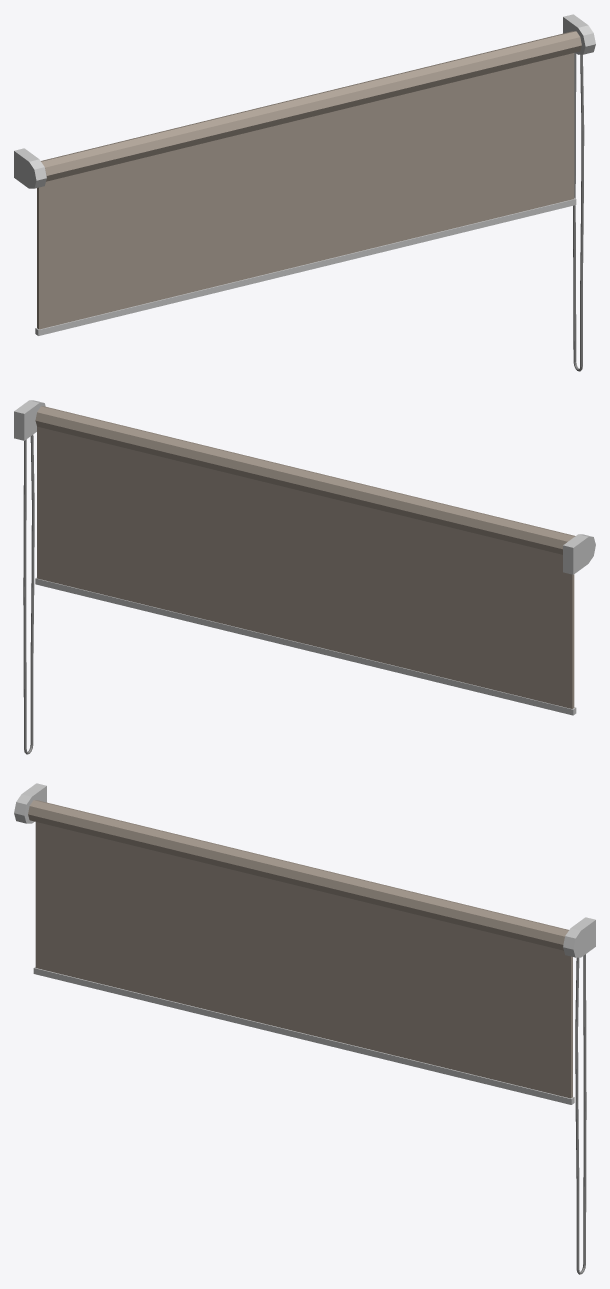
File: Curtains5_C2.fbx
The picture shows the model from 3 angles, top to bottom: view 1: azimuth 30°, elevation 25°; view 2: azimuth 150°, elevation 25°; view 3: azimuth 330°, elevation 25°; orthographic projection.
Parts seen in each view (by area): view 1: Curtains5_C2; view 2: Curtains5_C2; view 3: Curtains5_C2.
Part boxes in pixels (bbox=[...]): Curtains5_C2: bbox=[14, 14, 595, 371]; Curtains5_C2: bbox=[14, 400, 595, 754]; Curtains5_C2: bbox=[14, 783, 595, 1274].
Size of the model in its own units: 137 by 81.55 by 9.55.
